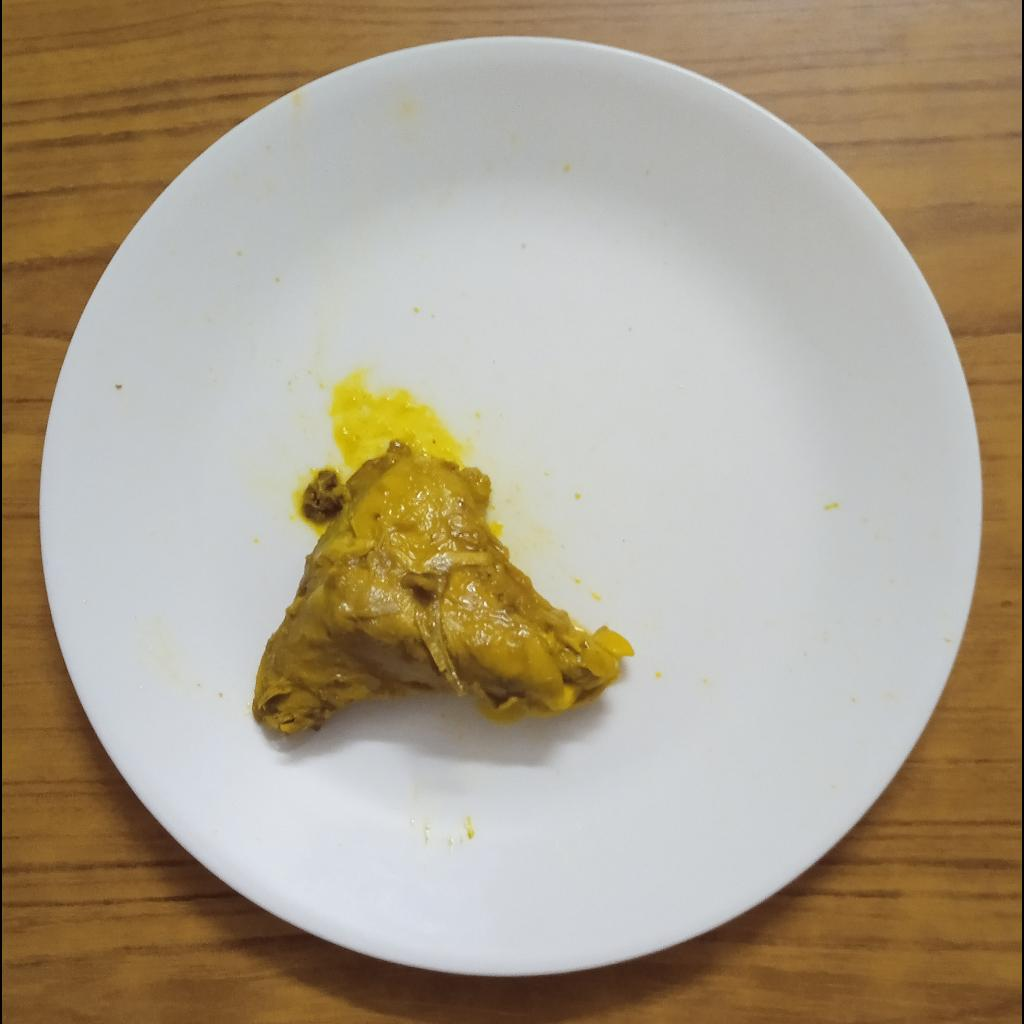chicken: (251, 444, 629, 739)
